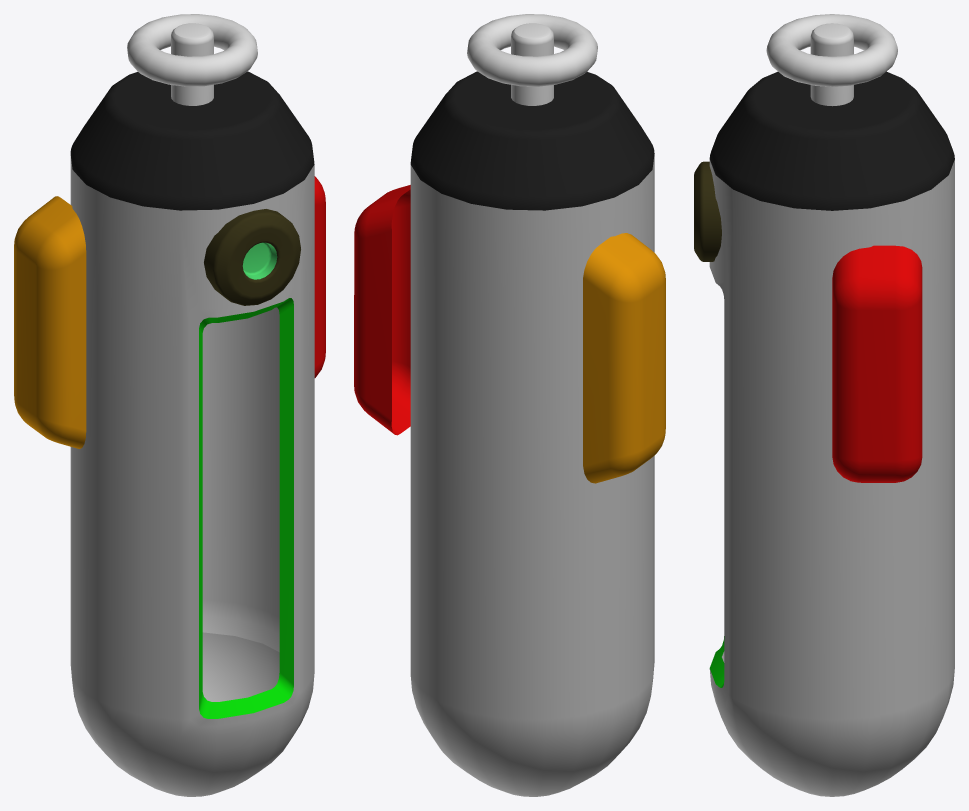
The model's file is SM_Oxygen_Tank.fbx.
The picture shows the model from 3 angles, left to right: view 1: azimuth 30°, elevation 25°; view 2: azimuth 150°, elevation 25°; view 3: azimuth 270°, elevation 25°; orthographic projection.
Visible parts, largest first — view 1: Body, inside, Side_Design, Front_connect, Top_Wheel, Top_Connect; view 2: Body, Side_Design, Top_Wheel, Top_Connect; view 3: Body, Side_Design, Top_Wheel, Front_connect, Top_Connect.
Boxes of the visible parts, bbox=[...] form: Body: bbox=[70, 71, 314, 796]; inside: bbox=[202, 307, 279, 652]; Side_Design: bbox=[14, 176, 325, 448]; Front_connect: bbox=[204, 209, 300, 305]; Top_Wheel: bbox=[127, 14, 257, 86]; Top_Connect: bbox=[171, 23, 213, 105]; Body: bbox=[410, 71, 654, 796]; Side_Design: bbox=[354, 185, 665, 483]; Top_Wheel: bbox=[467, 14, 597, 86]; Top_Connect: bbox=[511, 23, 553, 105]; Body: bbox=[709, 71, 954, 796]; Side_Design: bbox=[832, 245, 922, 482]; Top_Wheel: bbox=[766, 14, 897, 86]; Front_connect: bbox=[694, 161, 721, 261]; Top_Connect: bbox=[810, 23, 853, 106].
Size of the model in its own units: 2.7 by 6.82 by 2.13.
